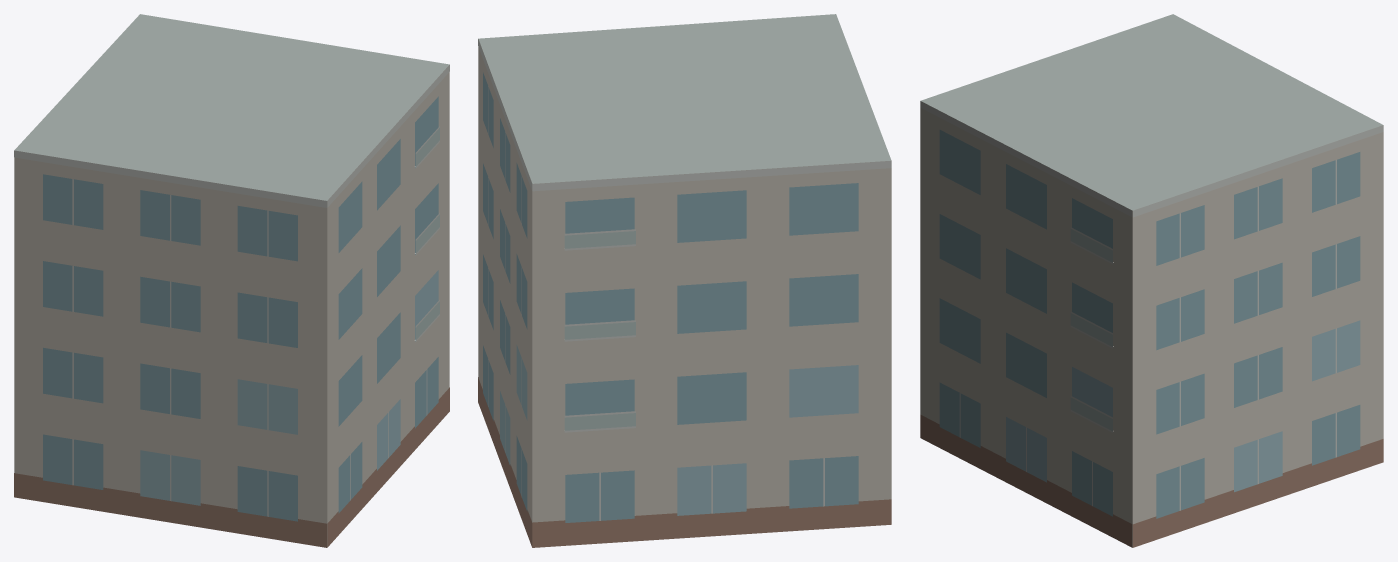
File: survey-upis-32932093.glb
3 renders of one model, left to right at view 1: azimuth 30°, elevation 25°; view 2: azimuth 150°, elevation 25°; view 3: azimuth 270°, elevation 25°, orthographic. The views are drawn at different scales.
Parts seen in each view (by area): view 1: survey-upis-32932093.tmp; view 2: survey-upis-32932093.tmp; view 3: survey-upis-32932093.tmp.
Part boxes in pixels (left/top/right/bottom): survey-upis-32932093.tmp: left=14, top=14, right=449, bottom=547; survey-upis-32932093.tmp: left=478, top=14, right=891, bottom=547; survey-upis-32932093.tmp: left=920, top=14, right=1383, bottom=547.
Size of the model in its own units: 15.02 by 12 by 14.95.
